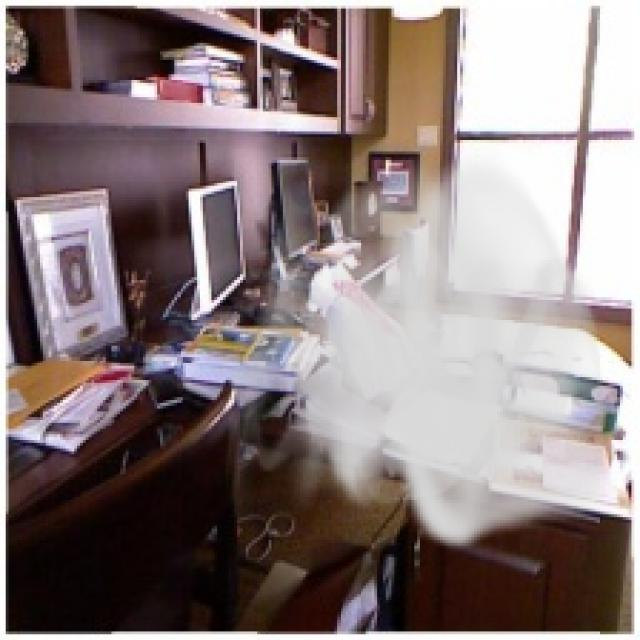smoke: (223, 143, 617, 551)
